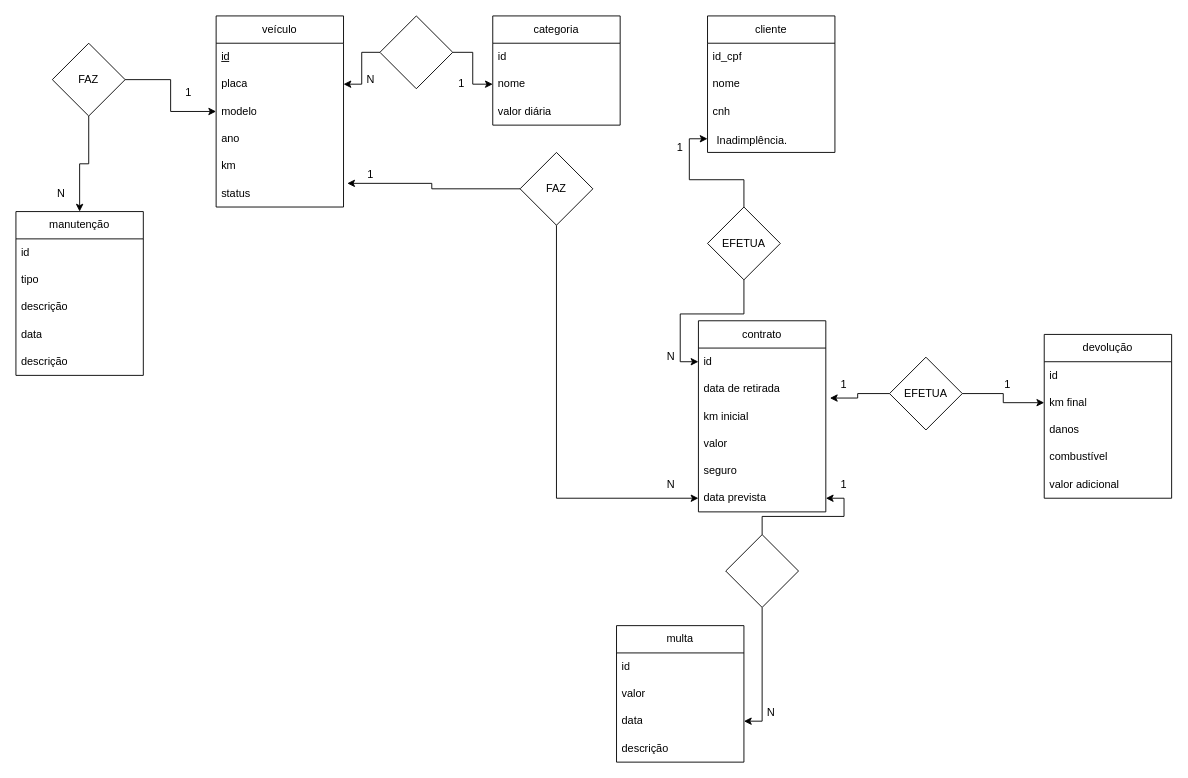
Some shapes in this 1188 by 778 pixel diagram are drawn without their labels. Each missing label, with the centre of its shape:
faz parte: the point at 416,52
RECEBE: the point at 762,570
